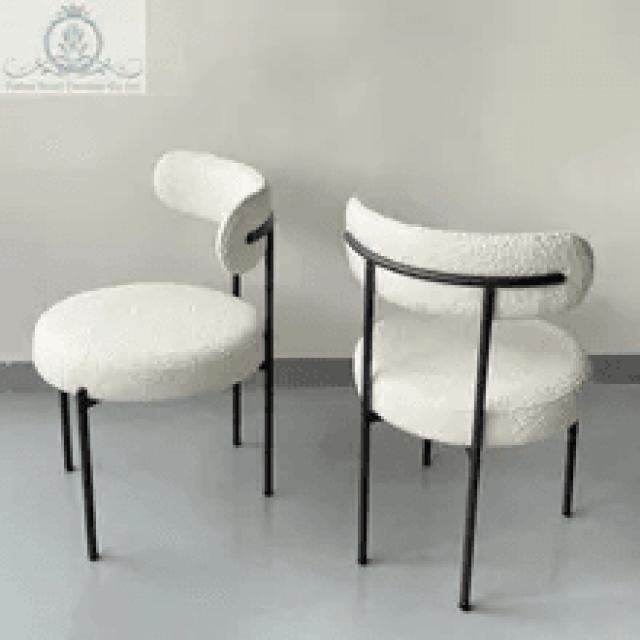chair: (339, 193, 598, 614), (28, 142, 282, 562), (342, 195, 594, 450), (34, 148, 272, 402)
